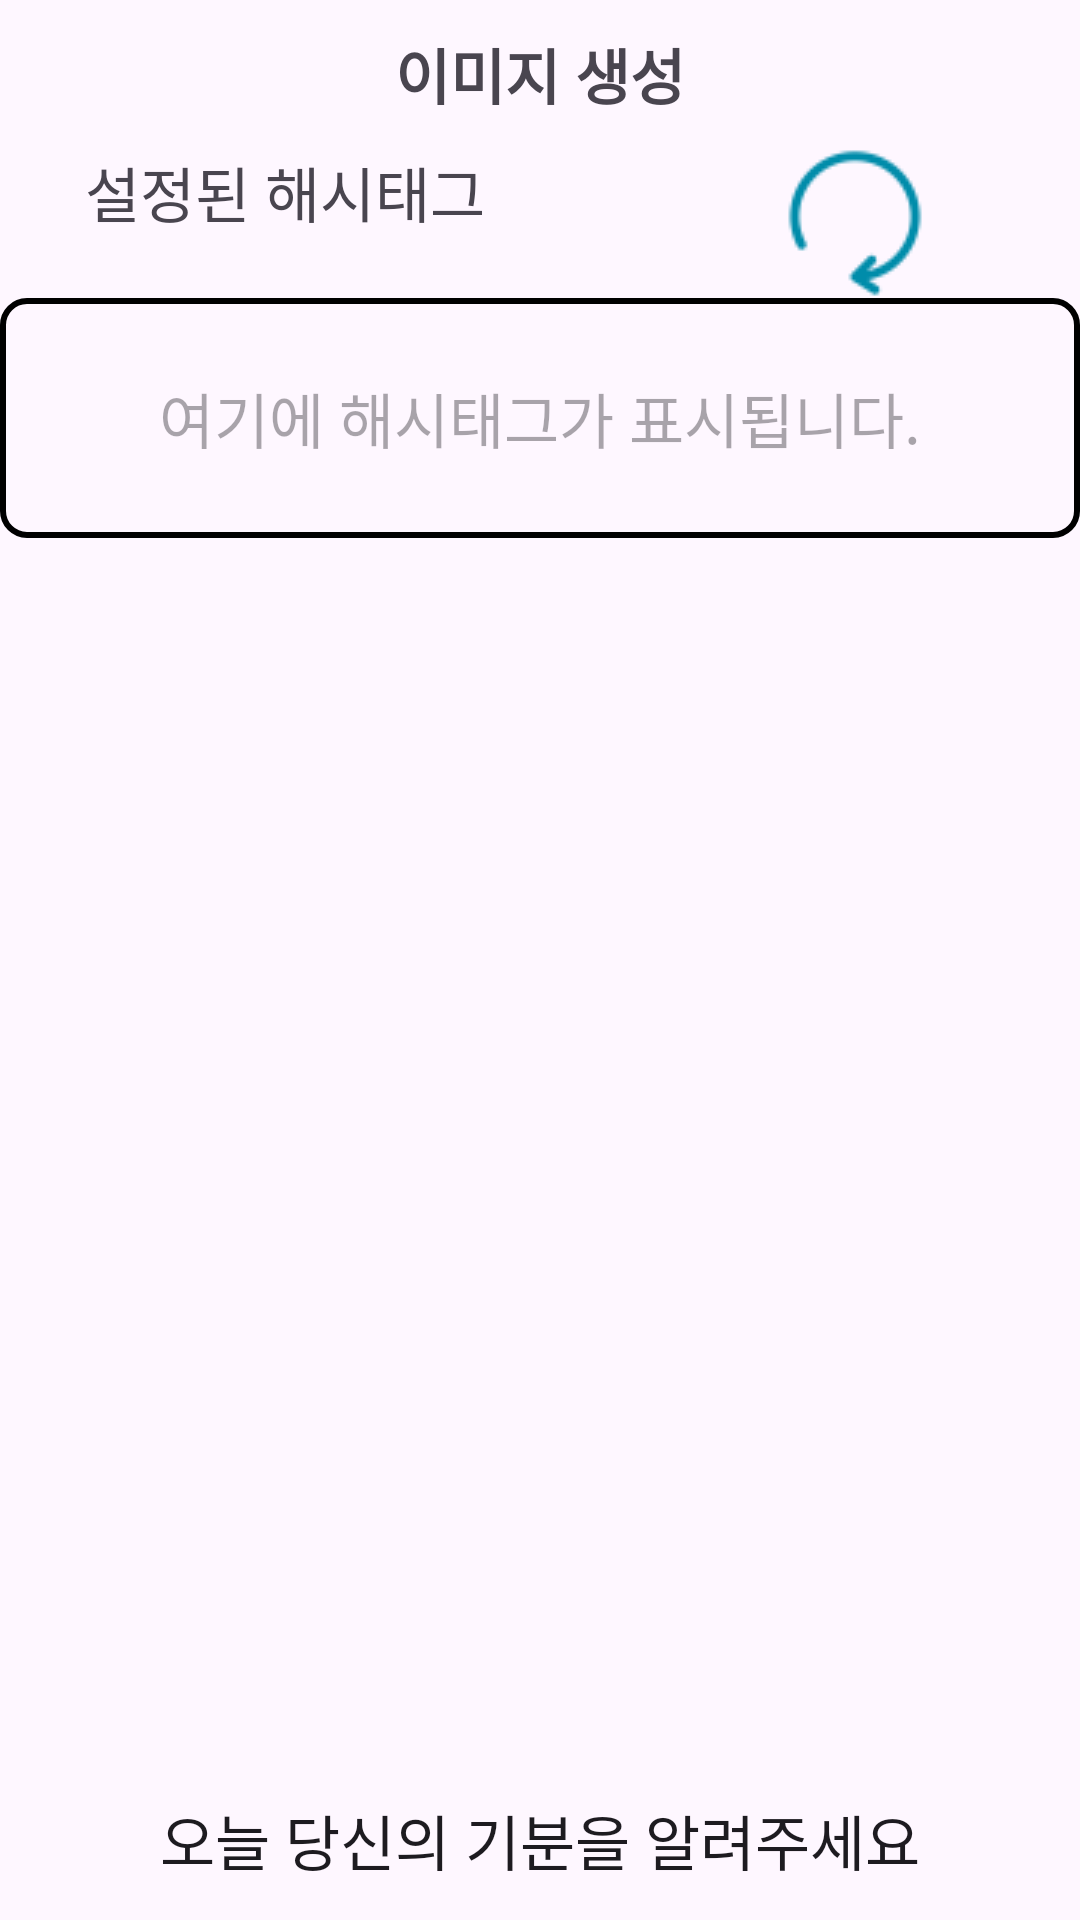

Point at icon controls on the screen. Image size 1080px x 1920px, points as (x=x, y=y).
remake: (x=855, y=223)
